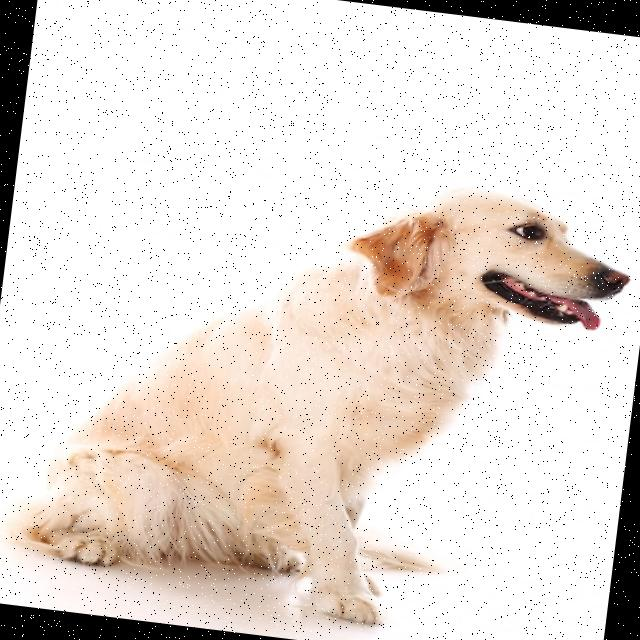Dog: (0, 138, 638, 640)
